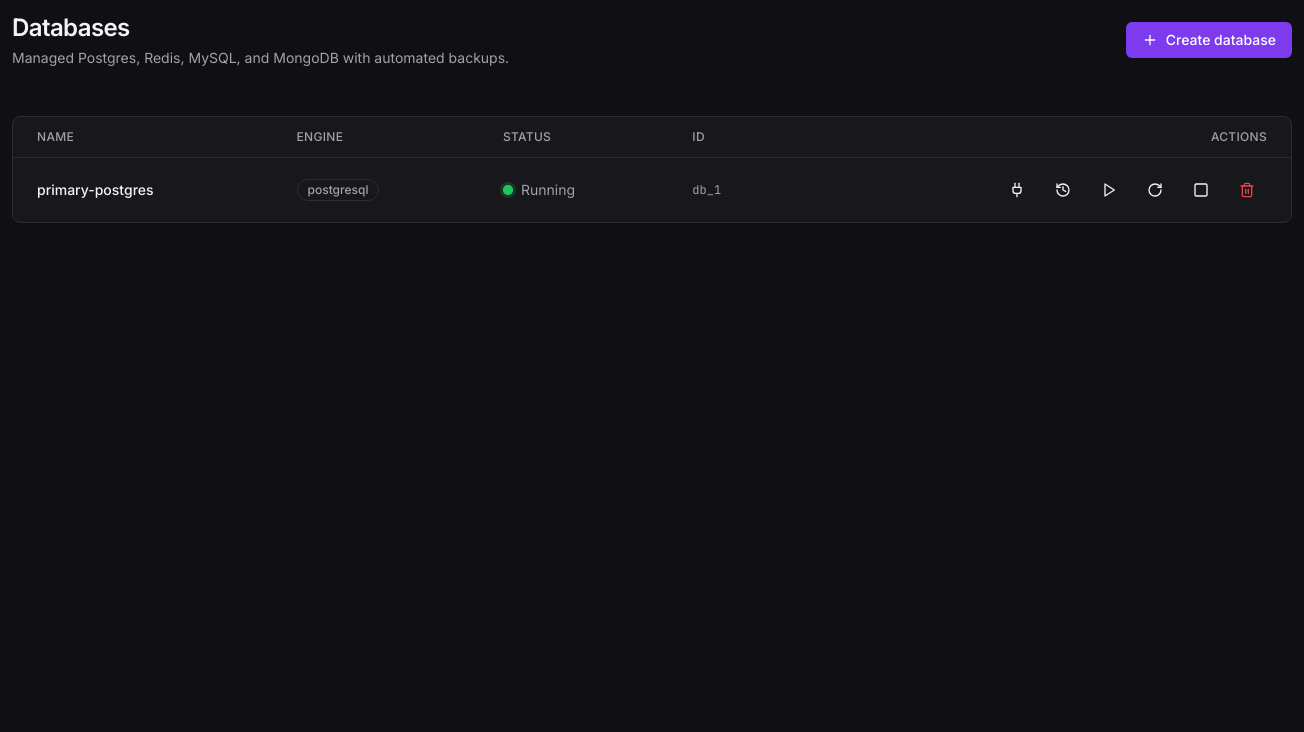
Test: Databases — connection info › loads and renders connection info with a masked password and reveal
This screenshot has width=1304, height=732.
Expected: the text "primary-postgres" is shown, [13,158,272,222]
Step 1. Click the button named "Connection info for primary-postgres" → click(1017, 190), box [997,174,1037,206]
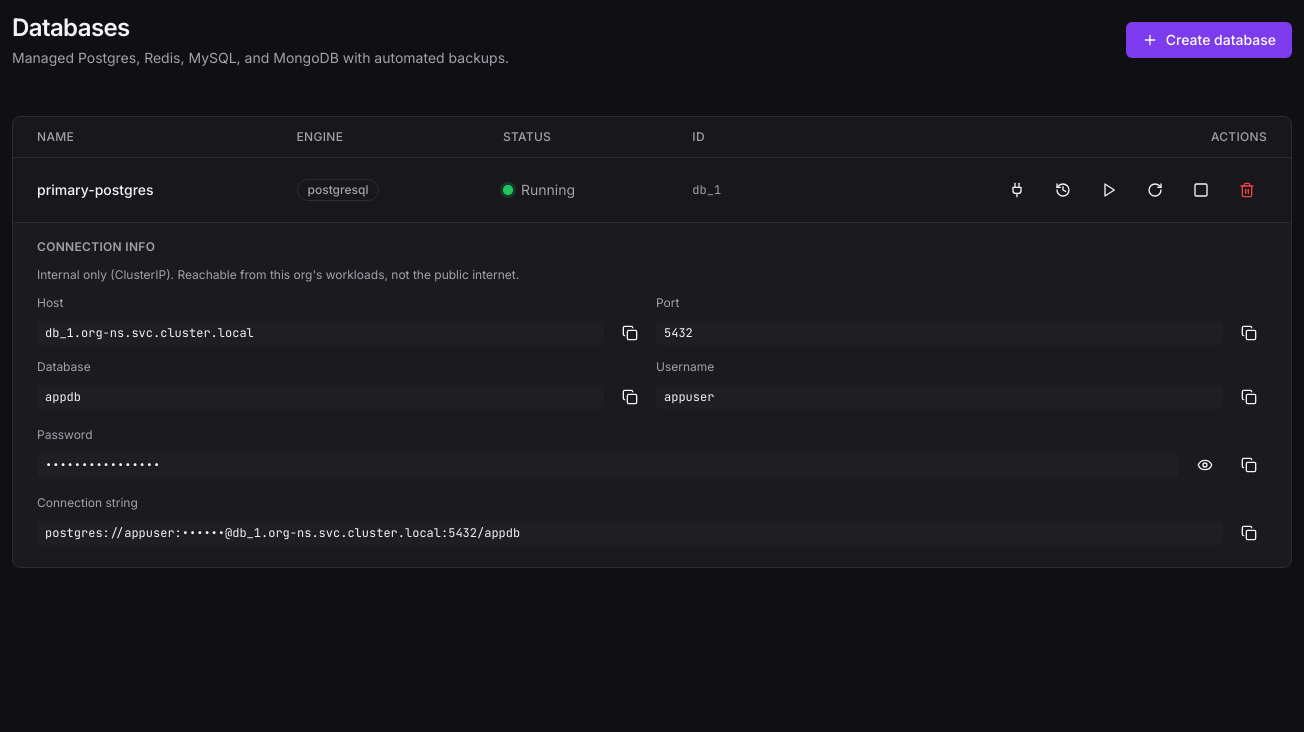
Expected: the text "super-secret-pw" is not shown
Result: the text "db_1.org-ns.svc.cluster.local" is shown at [37,321,604,345]
Result: the text "appuser" is shown at [656,385,1223,409]
Step 2. Click the button named "Reveal password" → click(1205, 465), box [1187,447,1223,483]
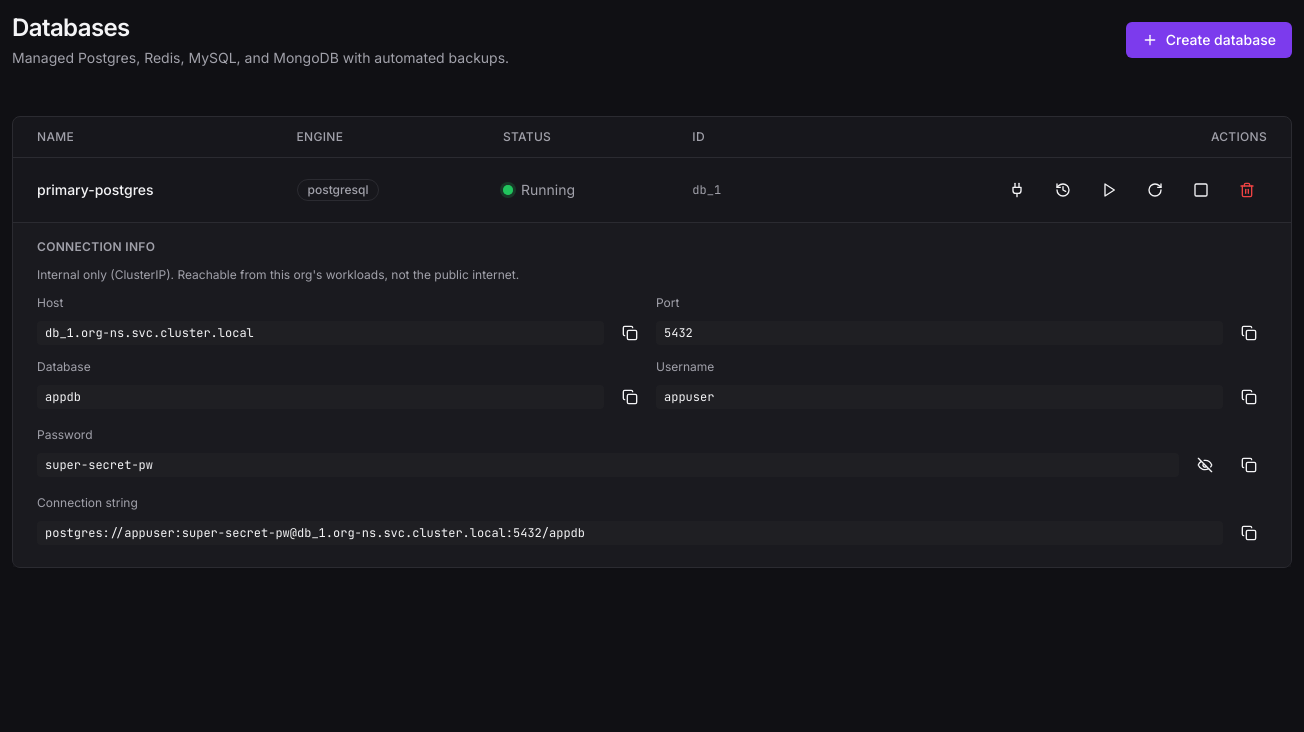
Expected: the cell "db_1" is shown, [668,158,789,222]
Result: the text "super-secret-pw" is shown at [37,453,1179,477]
